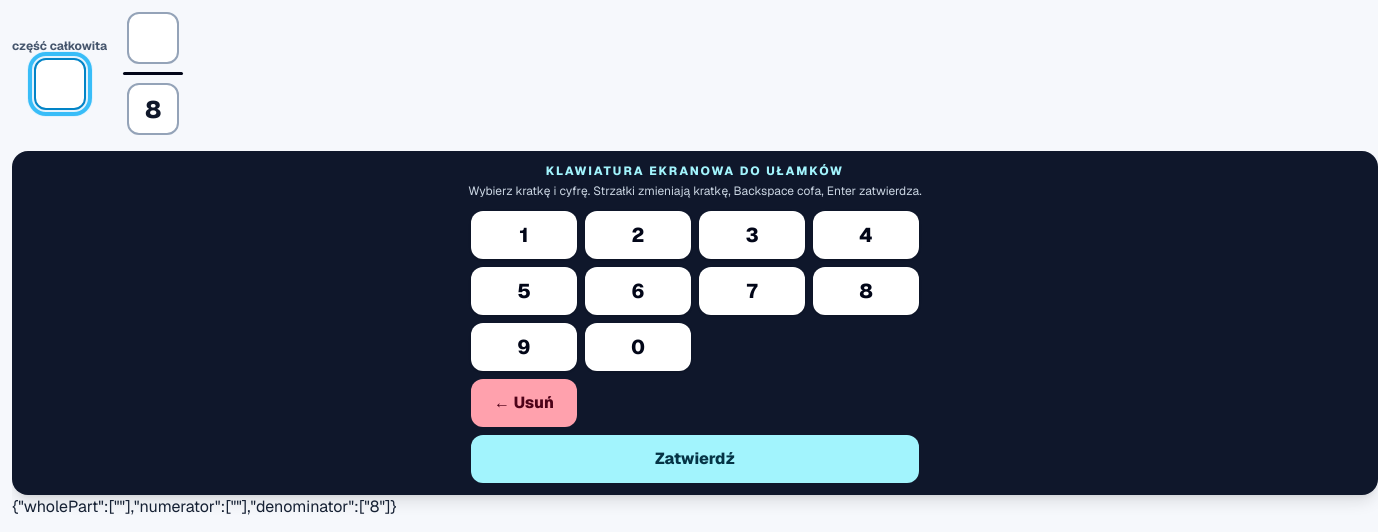
Test case: FractionStackInput — klawiatura, dotyk i semantyka › wpisuje do faktycznie podświetlonej kratki nawet wtedy, gdy zapamiętany cel dotyku jest nieaktualny
The image size is (1378, 532).
Press the mouse on the field named "mianownik, cyfra 1 z 1" at (153,109), box left=127, top=83, right=179, bottom=135
Press the mouse on the button "2" at (638,235), box left=585, top=211, right=691, bottom=259
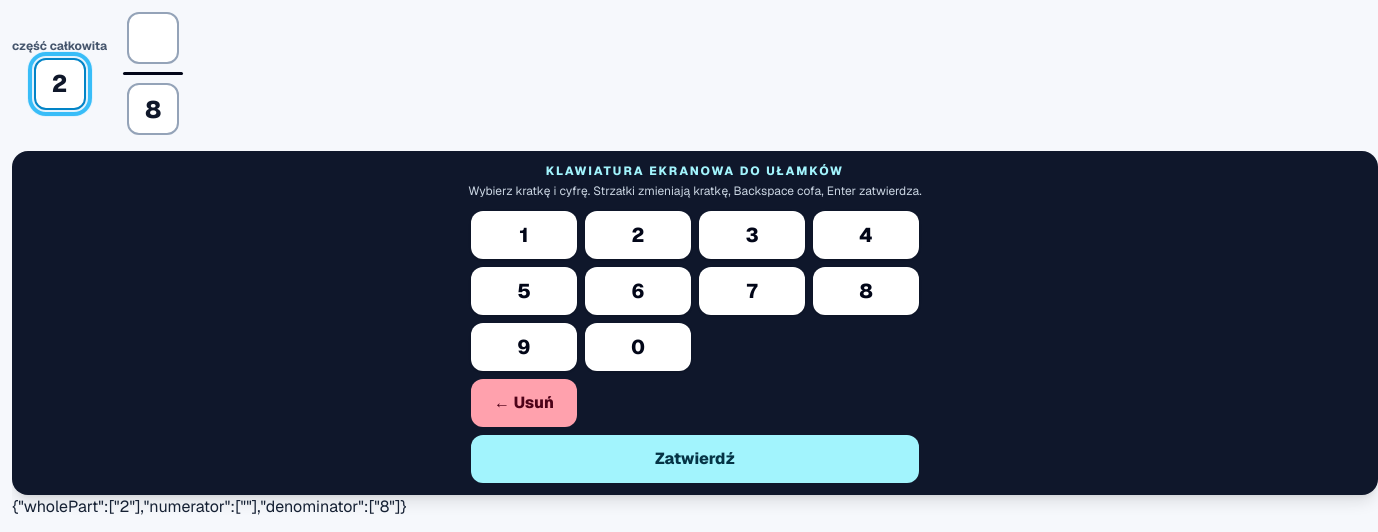
Expected: the field named "mianownik, cyfra 1 z 1" holds "8", left=127, top=83, right=179, bottom=135
Expected: the field named "część całkowita, cyfra 1 z 1" holds "2", left=34, top=58, right=86, bottom=110
